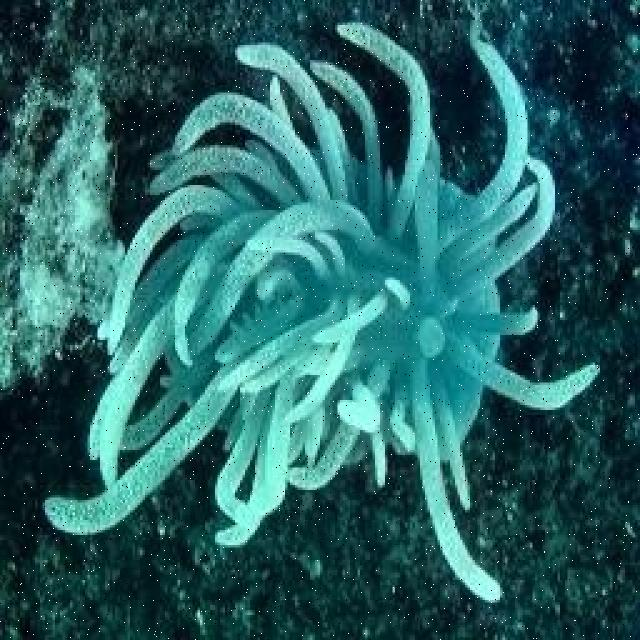reefs: (43, 20, 602, 602)
